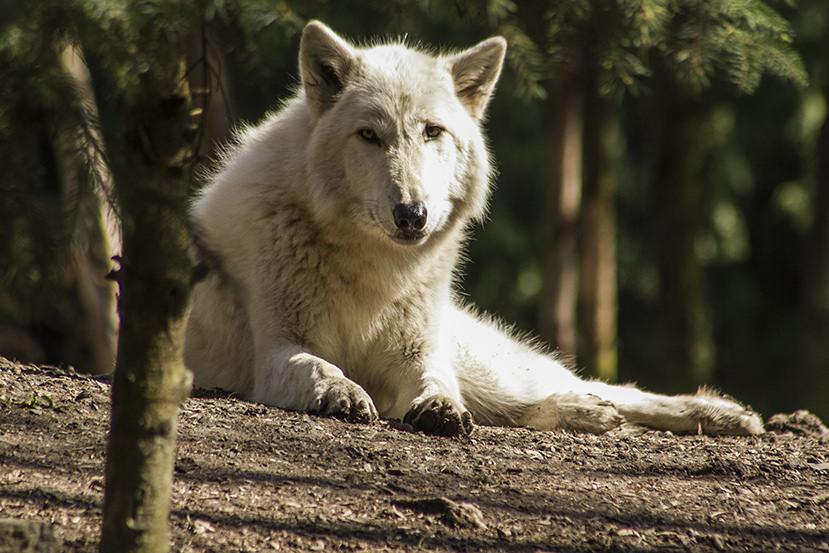Wolf: (187, 22, 771, 433)
